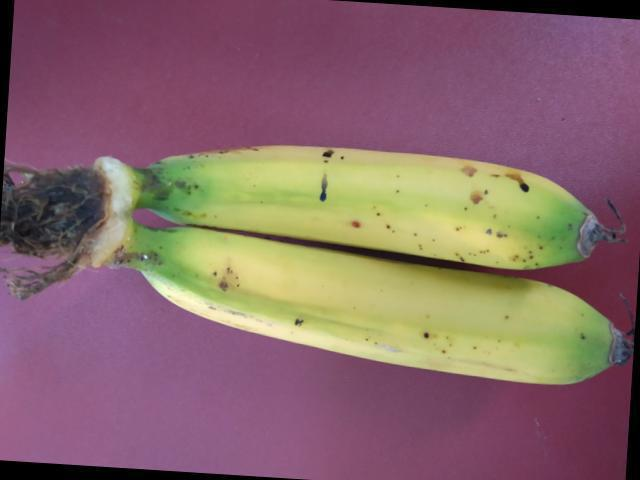freshripe: (149, 221, 623, 400)
ripe: (125, 109, 603, 278)
